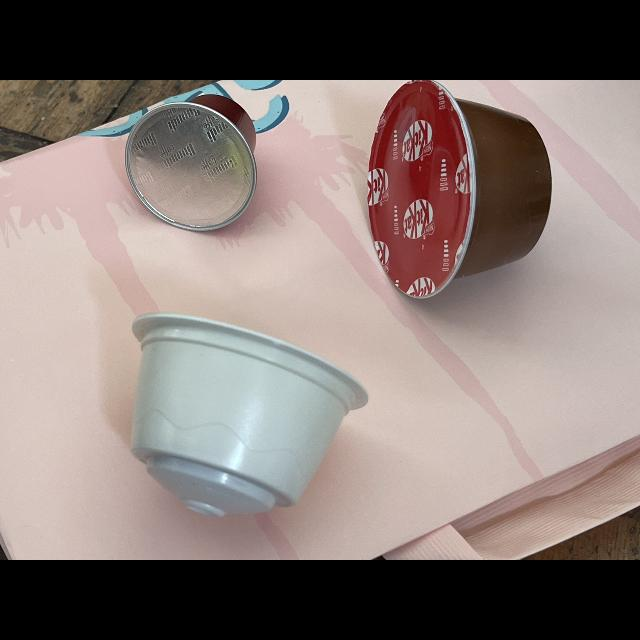intact_capsule: (120, 308, 376, 540), (360, 80, 556, 300), (118, 90, 280, 236)
